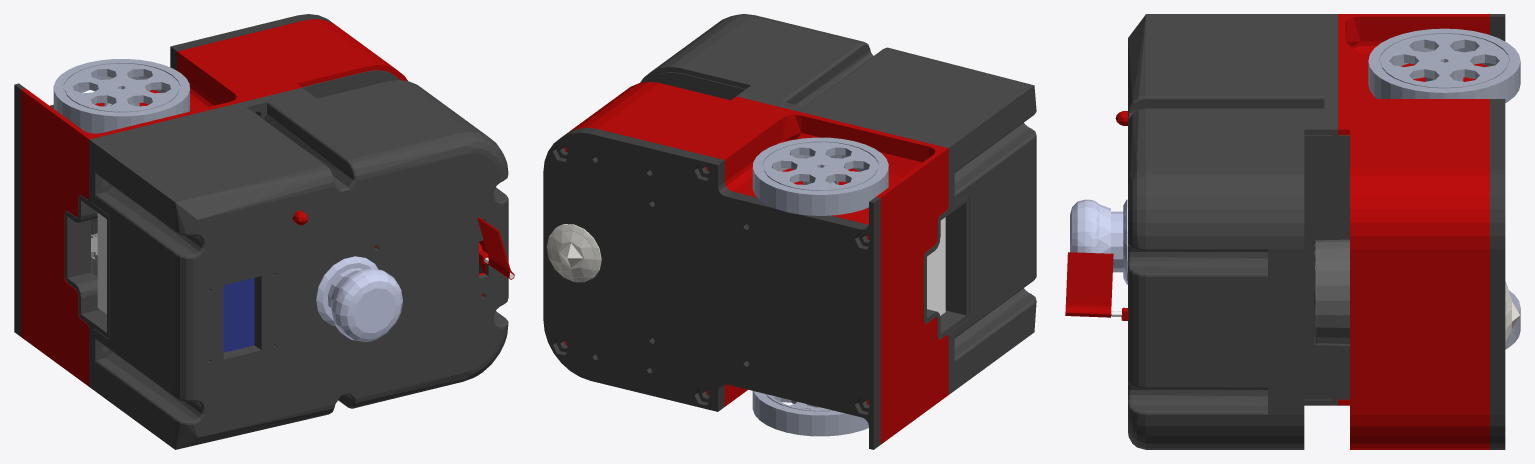
Rendered from pami2025.dae.
The picture shows the model from 3 angles, left to right: view 1: azimuth 30°, elevation 25°; view 2: azimuth 150°, elevation 25°; view 3: azimuth 270°, elevation 25°; orthographic projection. The views are drawn at different scales.
Visible parts, largest first — view 1: node8, node3, node1, node9, node4, node2, node13, node24, node7; view 2: node2, node8, node3, node1, node9, node0, node12, node7; view 3: node8, node3, node1, node9, node2, node16, node4, node24, node12.
Part boxes in pixels (x1,y1,x2,y2): node8: [92, 80, 508, 449]; node3: [21, 19, 407, 386]; node1: [53, 59, 189, 133]; node9: [64, 70, 399, 388]; node4: [316, 256, 402, 342]; node2: [14, 14, 333, 336]; node13: [223, 278, 254, 352]; node24: [477, 217, 514, 279]; node7: [97, 213, 106, 313]; node2: [543, 127, 880, 449]; node8: [640, 14, 1036, 392]; node3: [564, 81, 948, 444]; node1: [752, 137, 888, 215]; node9: [648, 72, 968, 394]; node0: [752, 391, 868, 436]; node12: [547, 224, 601, 281]; node7: [927, 217, 945, 315]; node8: [1128, 14, 1331, 449]; node3: [1338, 14, 1489, 449]; node1: [1368, 28, 1520, 102]; node9: [1304, 14, 1349, 405]; node2: [1490, 14, 1505, 449]; node16: [1314, 239, 1349, 345]; node4: [1070, 199, 1127, 284]; node24: [1065, 252, 1113, 317]; node12: [1505, 281, 1520, 349].
Bounding box in the file's own units: 140 × 150 × 100.
